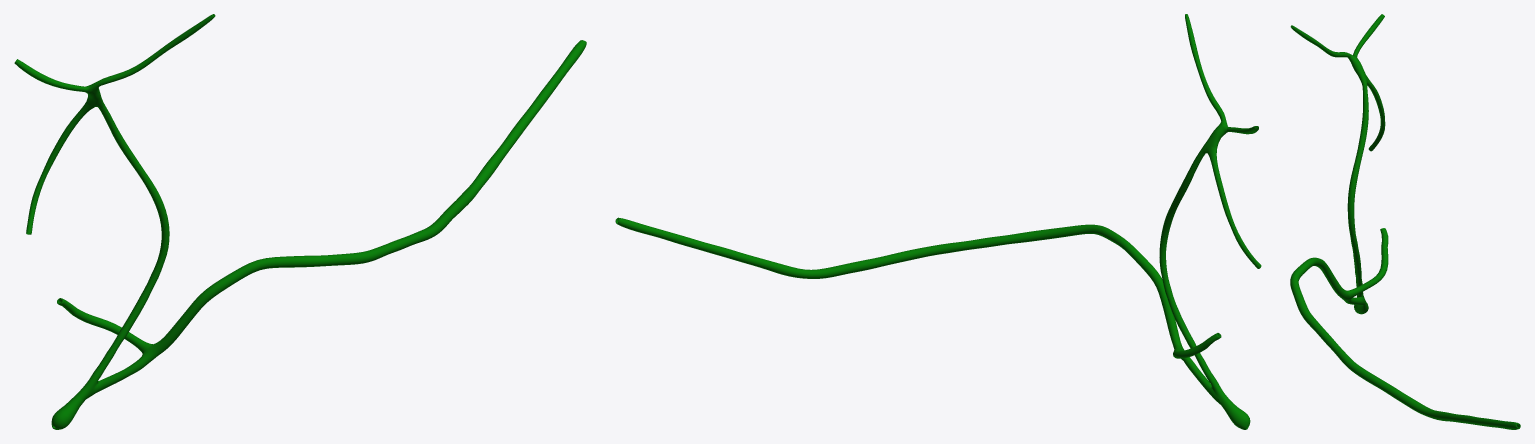
File: VH_F_Biliary_Tree.fbx
3 views of the same model, side by side, from view 1: azimuth 30°, elevation 25°; view 2: azimuth 150°, elevation 25°; view 3: azimuth 270°, elevation 25° (orthographic). The views are drawn at different scales.
Parts seen in each view (by area): view 1: VH_F_ventral_pancreatic_duct, VH_F_common_bile_duct, VH_F_cystic_duct, VH_F_left_hepatic_duct, VH_F_dorsal_pancreatic_duct, VH_F_hepatopancreatic_ampulla, VH_F_right_hepatic_duct; view 2: VH_F_ventral_pancreatic_duct, VH_F_common_bile_duct, VH_F_cystic_duct, VH_F_left_hepatic_duct; view 3: VH_F_ventral_pancreatic_duct, VH_F_common_bile_duct, VH_F_dorsal_pancreatic_duct, VH_F_cystic_duct, VH_F_left_hepatic_duct, VH_F_right_hepatic_duct, VH_F_common_hepatic_duct.
Part boxes in pixels (left/top/right/bottom): VH_F_ventral_pancreatic_duct: left=87, top=40, right=586, bottom=398; VH_F_common_bile_duct: left=76, top=105, right=169, bottom=400; VH_F_cystic_duct: left=26, top=102, right=94, bottom=234; VH_F_left_hepatic_duct: left=94, top=14, right=215, bottom=86; VH_F_dorsal_pancreatic_duct: left=57, top=298, right=152, bottom=353; VH_F_hepatopancreatic_ampulla: left=51, top=394, right=84, bottom=429; VH_F_right_hepatic_duct: left=14, top=59, right=85, bottom=91; VH_F_ventral_pancreatic_duct: left=615, top=217, right=1221, bottom=404; VH_F_common_bile_duct: left=1159, top=150, right=1228, bottom=402; VH_F_cystic_duct: left=1207, top=146, right=1261, bottom=268; VH_F_left_hepatic_duct: left=1185, top=14, right=1226, bottom=120; VH_F_ventral_pancreatic_duct: left=1290, top=257, right=1520, bottom=429; VH_F_common_bile_duct: left=1347, top=86, right=1368, bottom=300; VH_F_dorsal_pancreatic_duct: left=1347, top=228, right=1388, bottom=298; VH_F_cystic_duct: left=1366, top=75, right=1385, bottom=151; VH_F_left_hepatic_duct: left=1290, top=25, right=1351, bottom=57; VH_F_right_hepatic_duct: left=1353, top=14, right=1384, bottom=56; VH_F_common_hepatic_duct: left=1348, top=54, right=1367, bottom=86.
Size of the model in its own units: 16.44 by 10.05 by 6.35.
